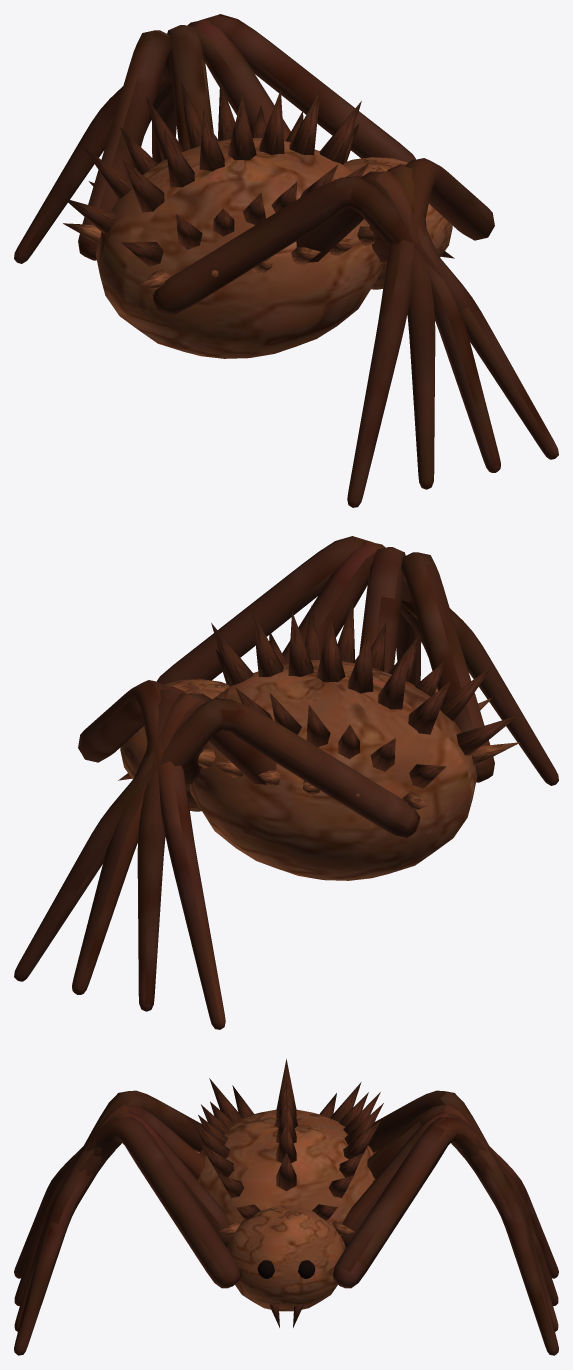
The model's file is bug_scavenger.glb.
3 views of the same model, one above another, from view 1: azimuth 30°, elevation 25°; view 2: azimuth 150°, elevation 25°; view 3: azimuth 270°, elevation 25° (orthographic). The views are drawn at different scales.
Parts seen in each view (by area): view 1: bug_scavenger; view 2: bug_scavenger; view 3: bug_scavenger.
Part boxes in pixels (x1=…): bug_scavenger: x1=14, y1=14, x2=558, y2=507; bug_scavenger: x1=14, y1=536, x2=558, y2=1029; bug_scavenger: x1=14, y1=1058, x2=558, y2=1355.
Bounding box in the file's own units: 1 × 0.7171 × 1.6.
Materials: 3 (2 with a texture image).
